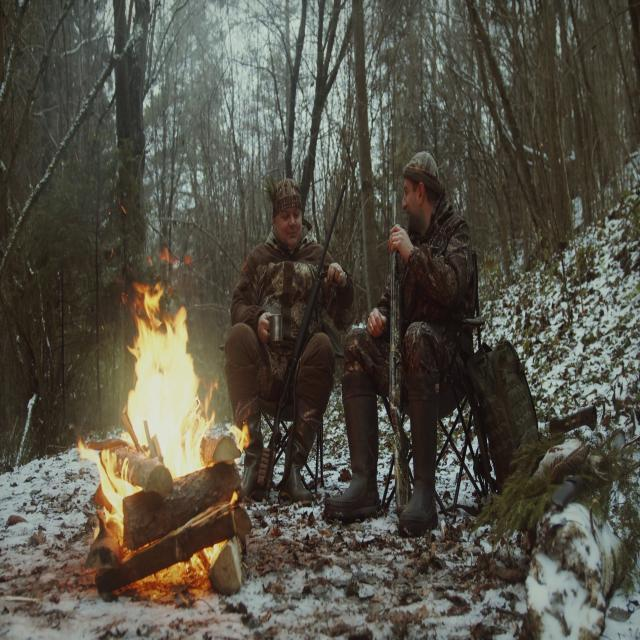Fire: (86, 270, 247, 575)
